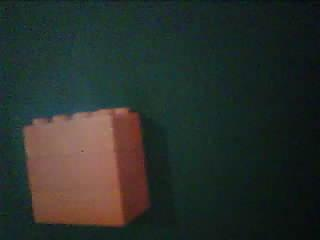lego: (21, 104, 151, 228)
